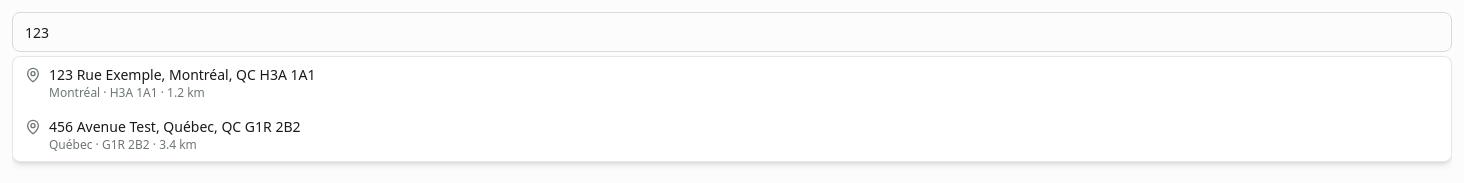
AddressAutocomplete › outside click boundary (mousedown + touchstart) › closes dropdown on mousedown outside the component
expect the list is shown: met, box [12,56,1452,162]
// mousedown on document.body (outside the root container)
Press the mouse on the element that starts with "123 Rue Exemple, Montréal, QC H3A 1A1" at (732, 32), box [12,12,1452,52]
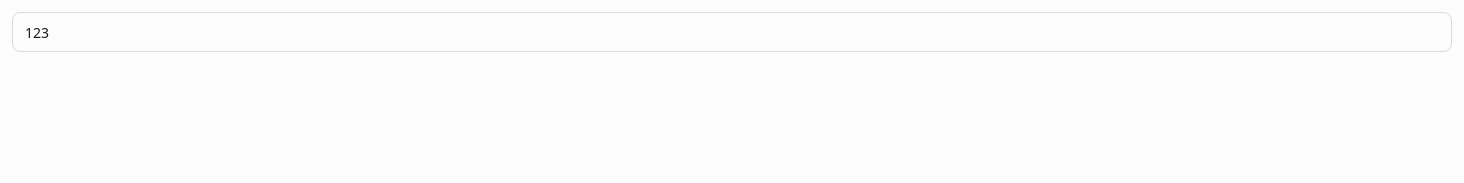
expect the list is gone: met
